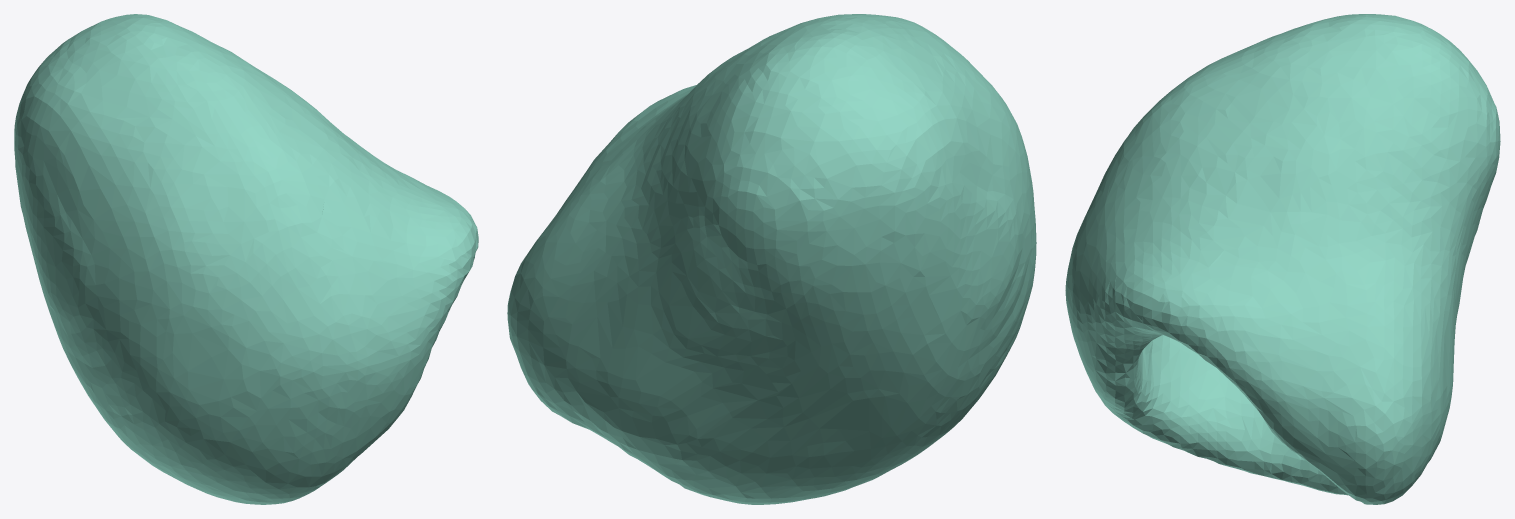
Rendered from ours.glb.
3 renders of one model, left to right at view 1: azimuth 30°, elevation 25°; view 2: azimuth 150°, elevation 25°; view 3: azimuth 270°, elevation 25°, orthographic. The views are drawn at different scales.
Visible parts, largest first — view 1: world; view 2: world; view 3: world.
Boxes of the visible parts, bbox=[...] form: world: bbox=[14, 14, 478, 504]; world: bbox=[507, 14, 1036, 504]; world: bbox=[1065, 14, 1500, 504].
Bounding box in the file's own units: 0.7524 × 0.8041 × 0.7325.
